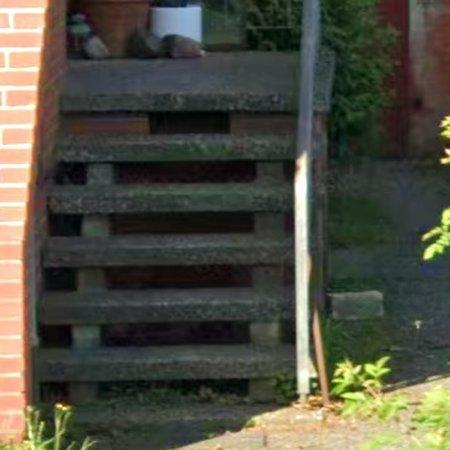stairs: (35, 0, 335, 400)
